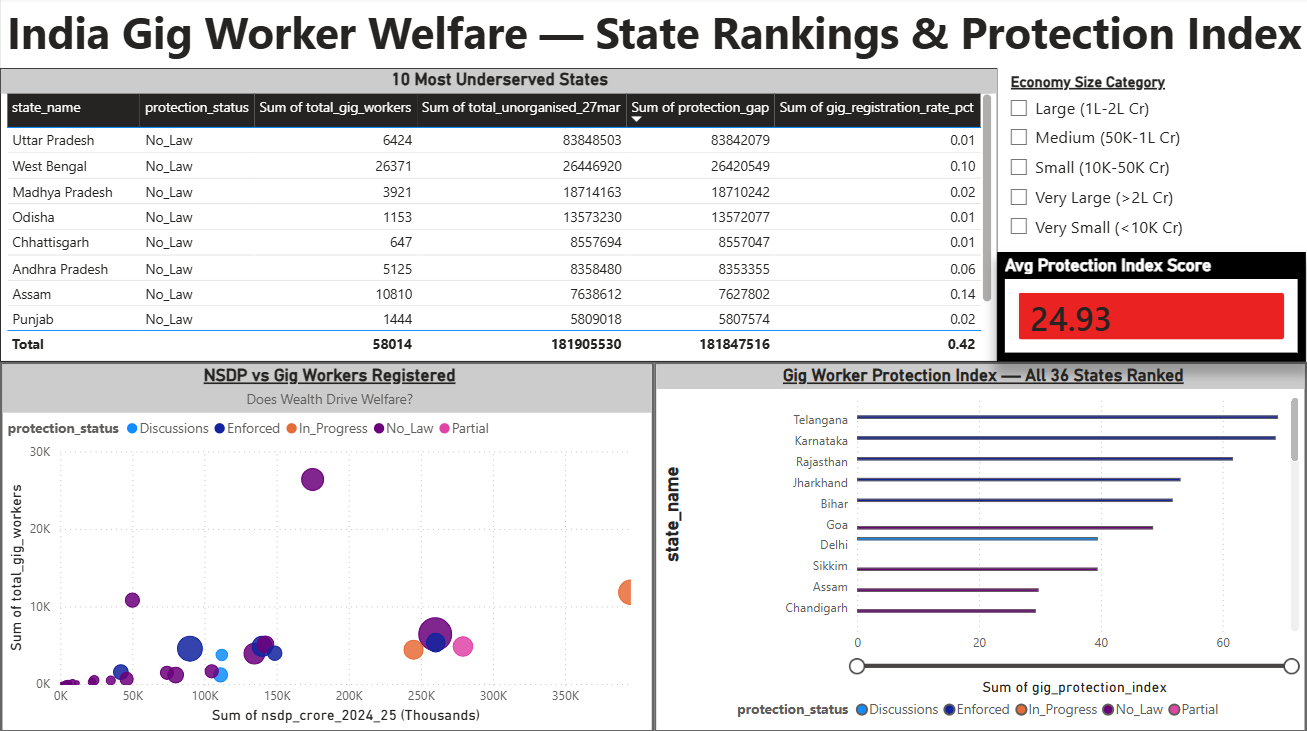

What the dashboard file says about the page in this screenshot:
{"tool":"powerbi","page":{"name":"State Rankings","canvas":[1280,720],"ordinal":3},"visuals":[{"type":"textbox","box":[0,0,1280,78.8],"z":0},{"type":"clusteredBarChart","title":"Gig Worker Protection Index — All 36 States Ranked","fields":{"Category":["master_analytics_table.state_name"],"Y":["Sum(master_analytics_table.gig_protection_index)"],"Series":["master_analytics_table.protection_status"]},"box":[640,357.5,640,362.5],"z":1000},{"type":"scatterChart","title":"NSDP vs Gig Workers Registered","fields":{"X":["Sum(master_analytics_table.nsdp_crore_2024_25)"],"Y":["Sum(master_analytics_table.total_gig_workers)"],"Size":["Sum(master_analytics_table.total_pop_2025)"],"Category":["master_analytics_table.state_name"],"Series":["master_analytics_table.protection_status"]},"box":[0,357.5,640,362.5],"z":2000},{"type":"tableEx","title":"10 Most Underserved States","fields":{"Values":["master_analytics_table.state_name","master_analytics_table.protection_status","Sum(master_analytics_table.total_gig_workers)","Sum(master_analytics_table.total_unorganised_27mar)","Sum(master_analytics_table.protection_gap)","Sum(master_analytics_table.gig_registration_rate_pct)"]},"box":[0,70,976.2,287.5],"z":3000},{"type":"slicer","fields":{"Values":["state_nsdp.economy_size_category"]},"box":[976.2,70,303.8,180],"z":4000},{"type":"cardVisual","title":"Avg Protection Index Score","fields":{"Data":["Avg(master_analytics_table.gig_protection_index)"]},"box":[976.2,250,302.5,107.5],"z":5000}]}

Visuals, with their boxes in screenshot pixels (x1, y1, x2, y2), scaled from the page's 1280x720 canvas onto the 1307x731 screenshot:
textbox: box(0, 0, 1306, 80)
"Gig Worker Protection Index — All 36 States Ranked" clusteredBarChart: box(654, 363, 1306, 730)
"NSDP vs Gig Workers Registered" scatterChart: box(0, 363, 654, 730)
"10 Most Underserved States" tableEx: box(0, 71, 997, 363)
slicer - state_nsdp.economy_size_category: box(997, 71, 1306, 254)
"Avg Protection Index Score" cardVisual: box(997, 254, 1306, 363)
